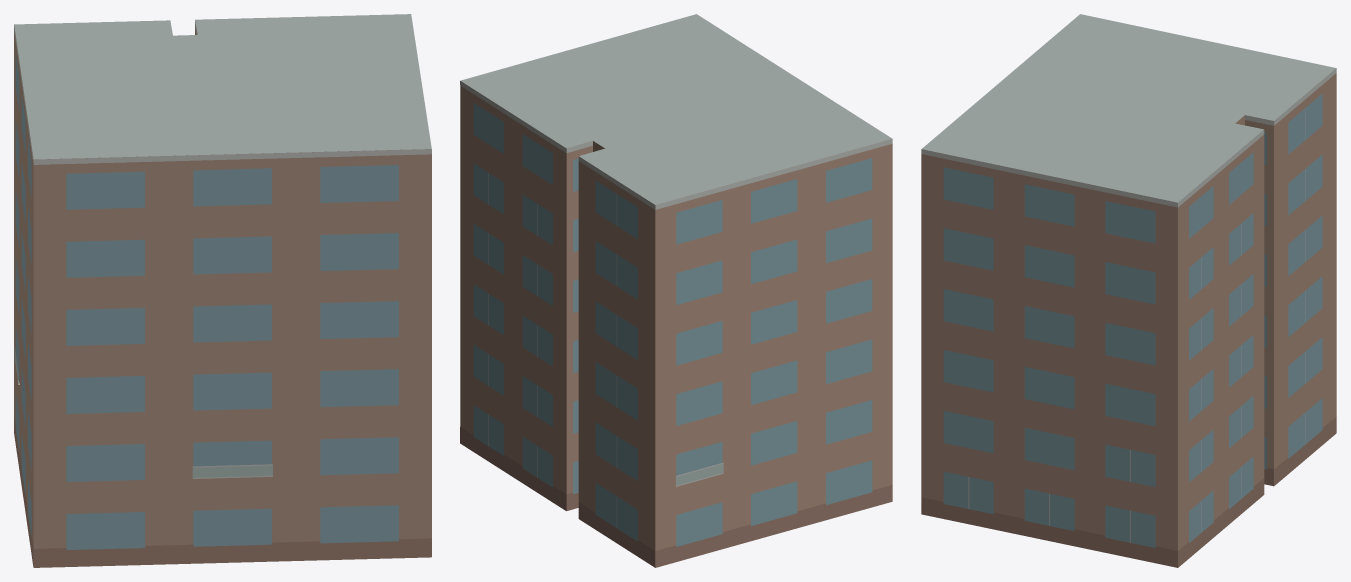
File: survey-upis-32941070.glb
3 views of the same model, side by side, from view 1: azimuth 30°, elevation 25°; view 2: azimuth 150°, elevation 25°; view 3: azimuth 270°, elevation 25° (orthographic). The views are drawn at different scales.
Parts seen in each view (by area): view 1: survey-upis-32941070.tmp; view 2: survey-upis-32941070.tmp; view 3: survey-upis-32941070.tmp.
Boxes of the visible parts, left/top/right/bottom form: survey-upis-32941070.tmp: left=14, top=14, right=431, bottom=567; survey-upis-32941070.tmp: left=460, top=14, right=892, bottom=567; survey-upis-32941070.tmp: left=921, top=14, right=1336, bottom=567.
Bounding box in the file's own units: 20.28 × 18.3 × 18.86.
